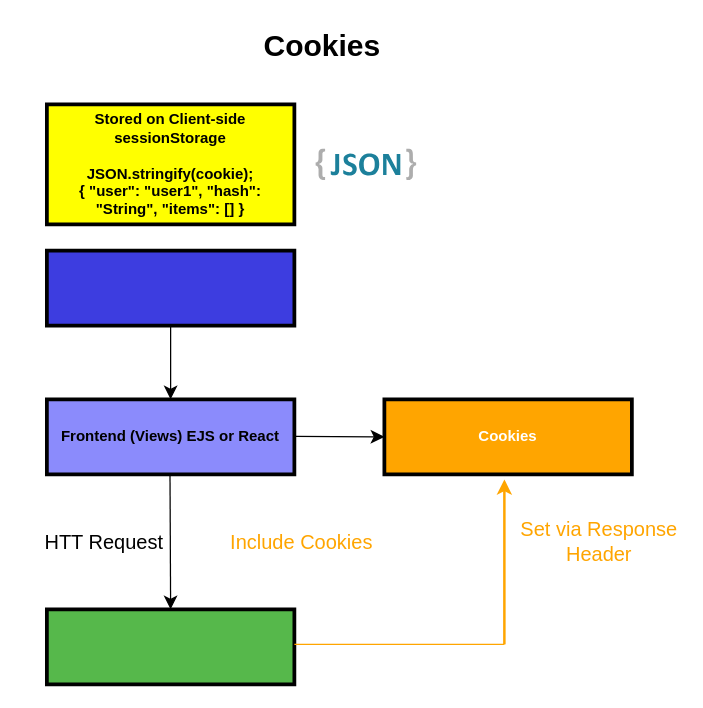
This 703x708 diagram has some shape labels left out. Here are the shapes that lost their labels. From the top down, the centre of each, then its label:
pixel 170 287: Client (User on browser)
pixel 170 646: Web Server (Node.js)
